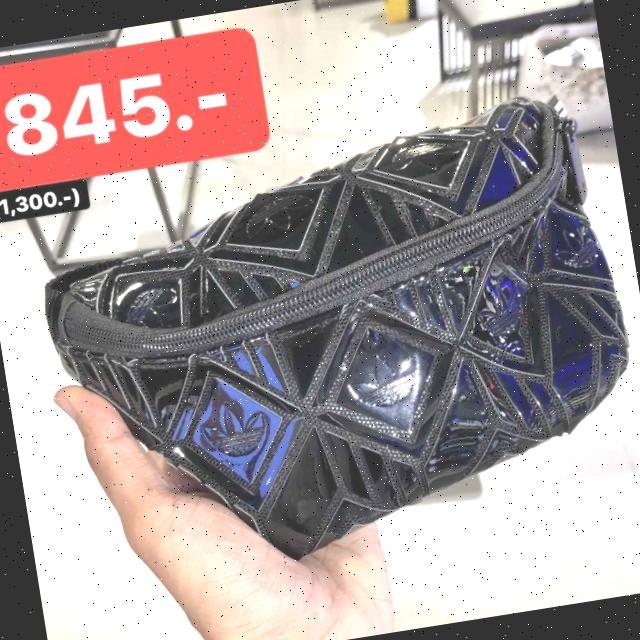Handbag: (24, 81, 640, 606)
